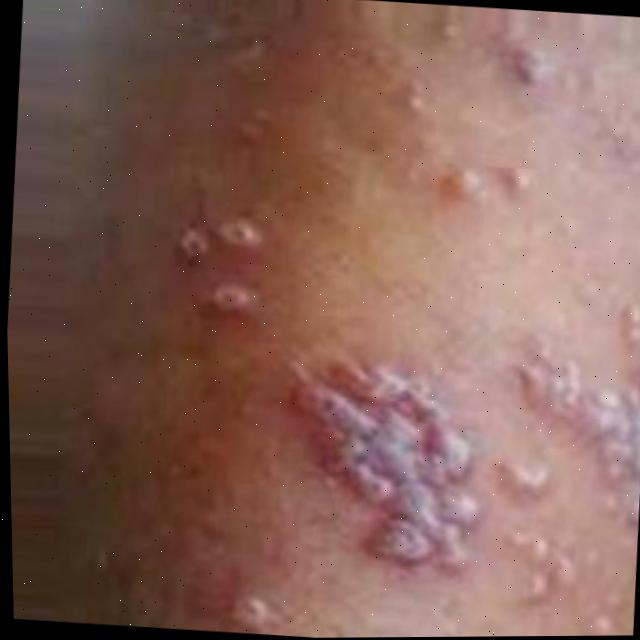Shingles: (257, 309, 640, 638), (158, 202, 260, 306), (506, 48, 547, 84), (233, 592, 264, 625)
